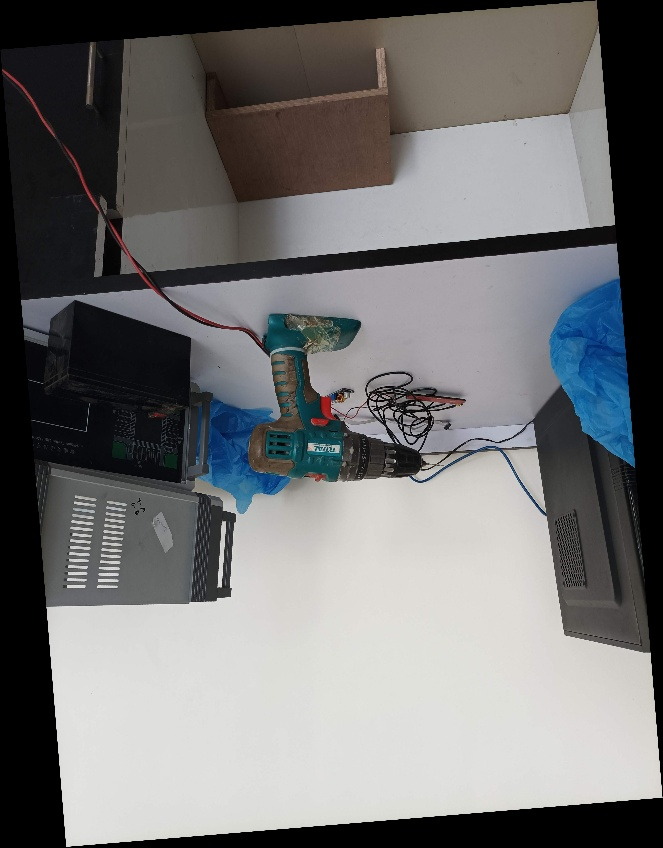driller: (246, 307, 440, 485)
